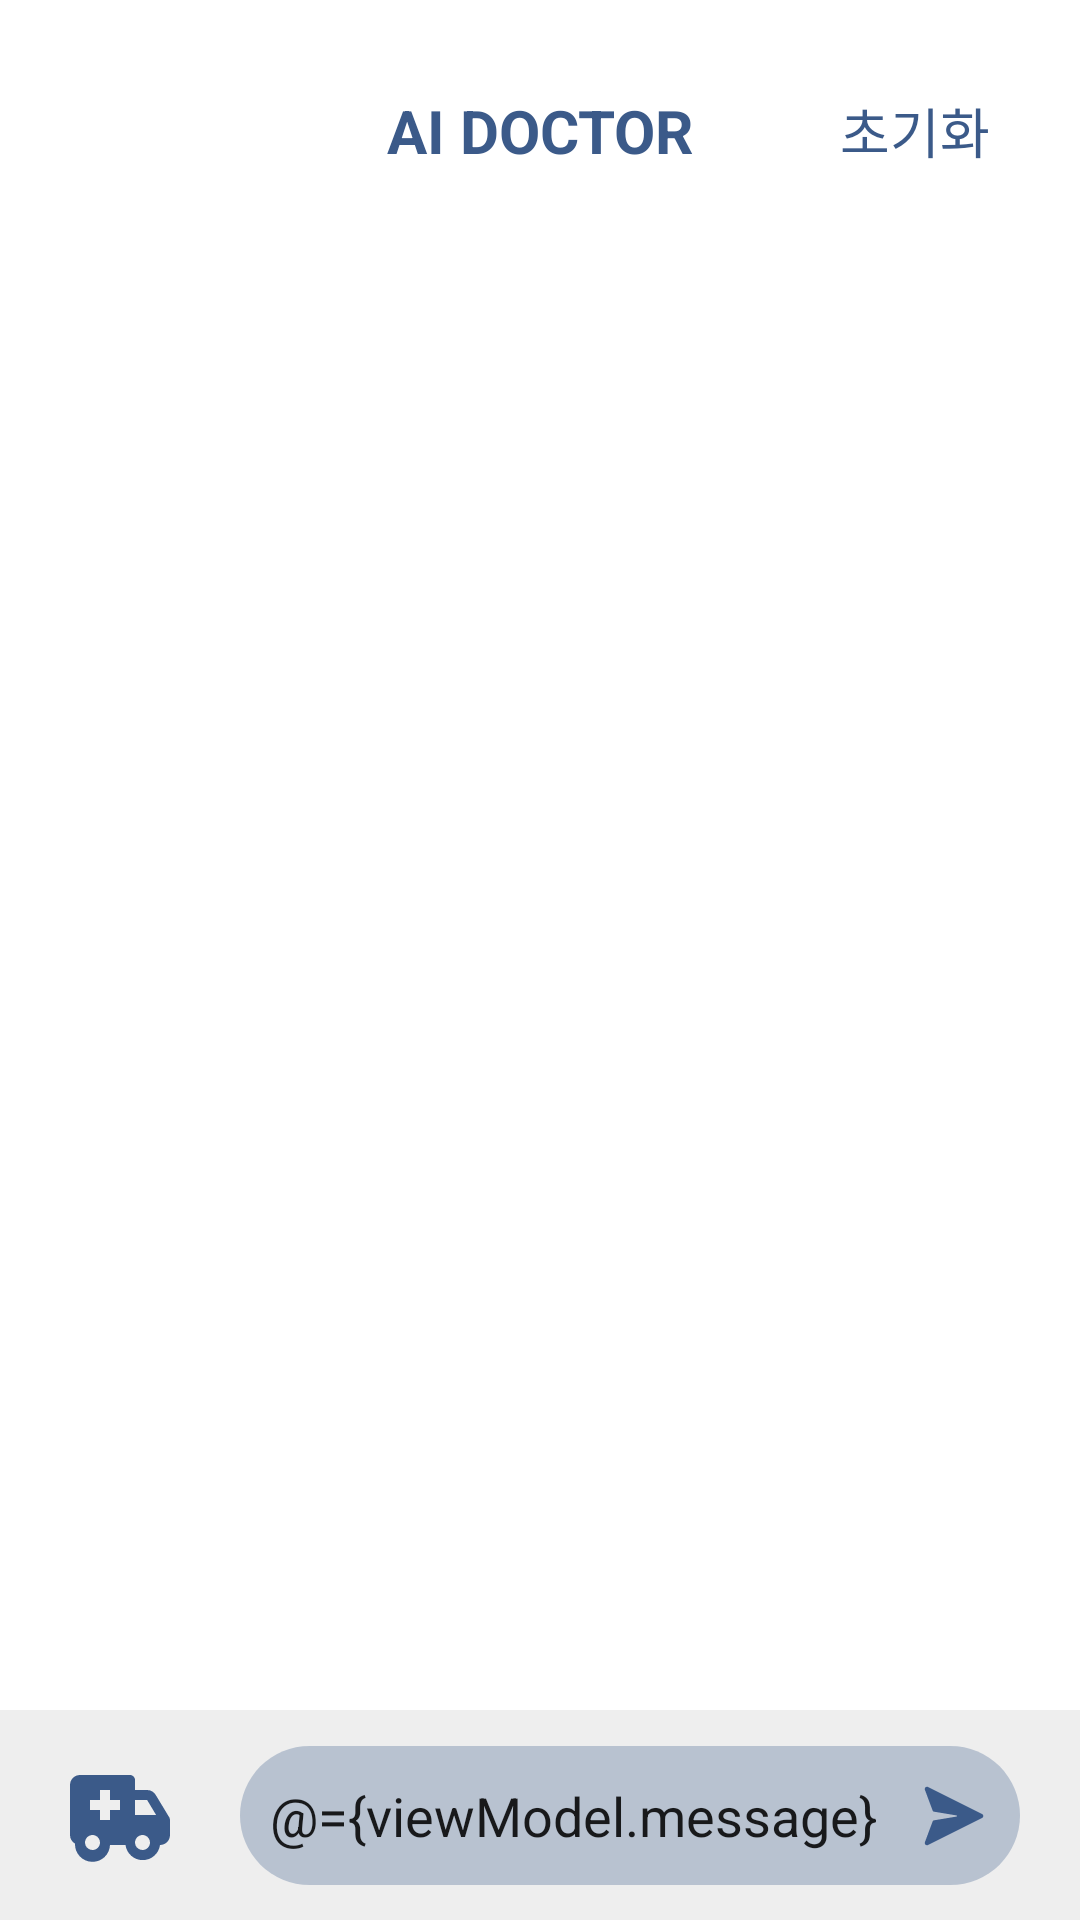

Point at icon controls on the screen. Image size 1080 x 1920, points as (x=x, y=y).
emergency: (x=120, y=1818)
send: (x=954, y=1816)
